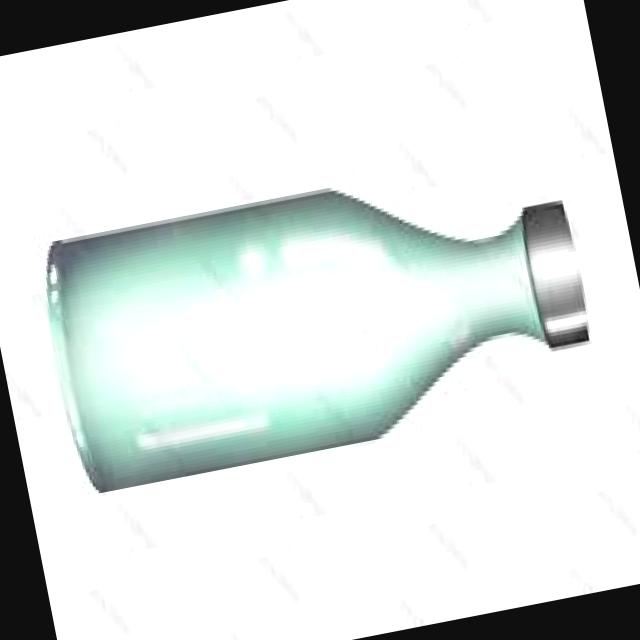bottle: (47, 191, 587, 492)
metal: (522, 201, 588, 347)
